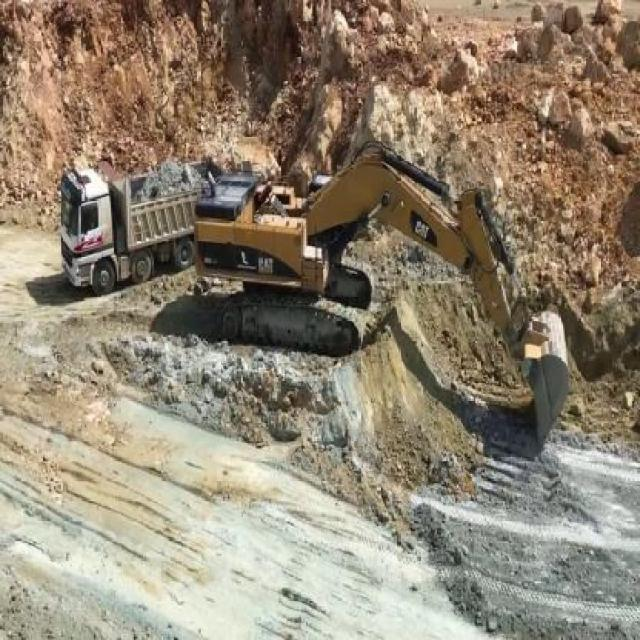Dump Truck: (54, 148, 203, 300)
Excavator: (188, 136, 574, 462)
